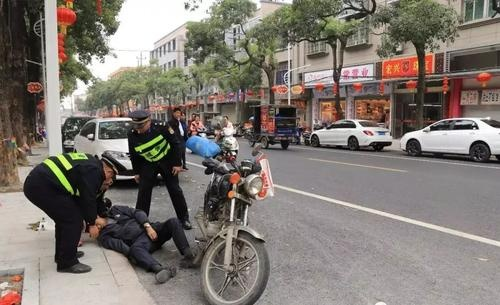falling: (83, 196, 206, 280)
